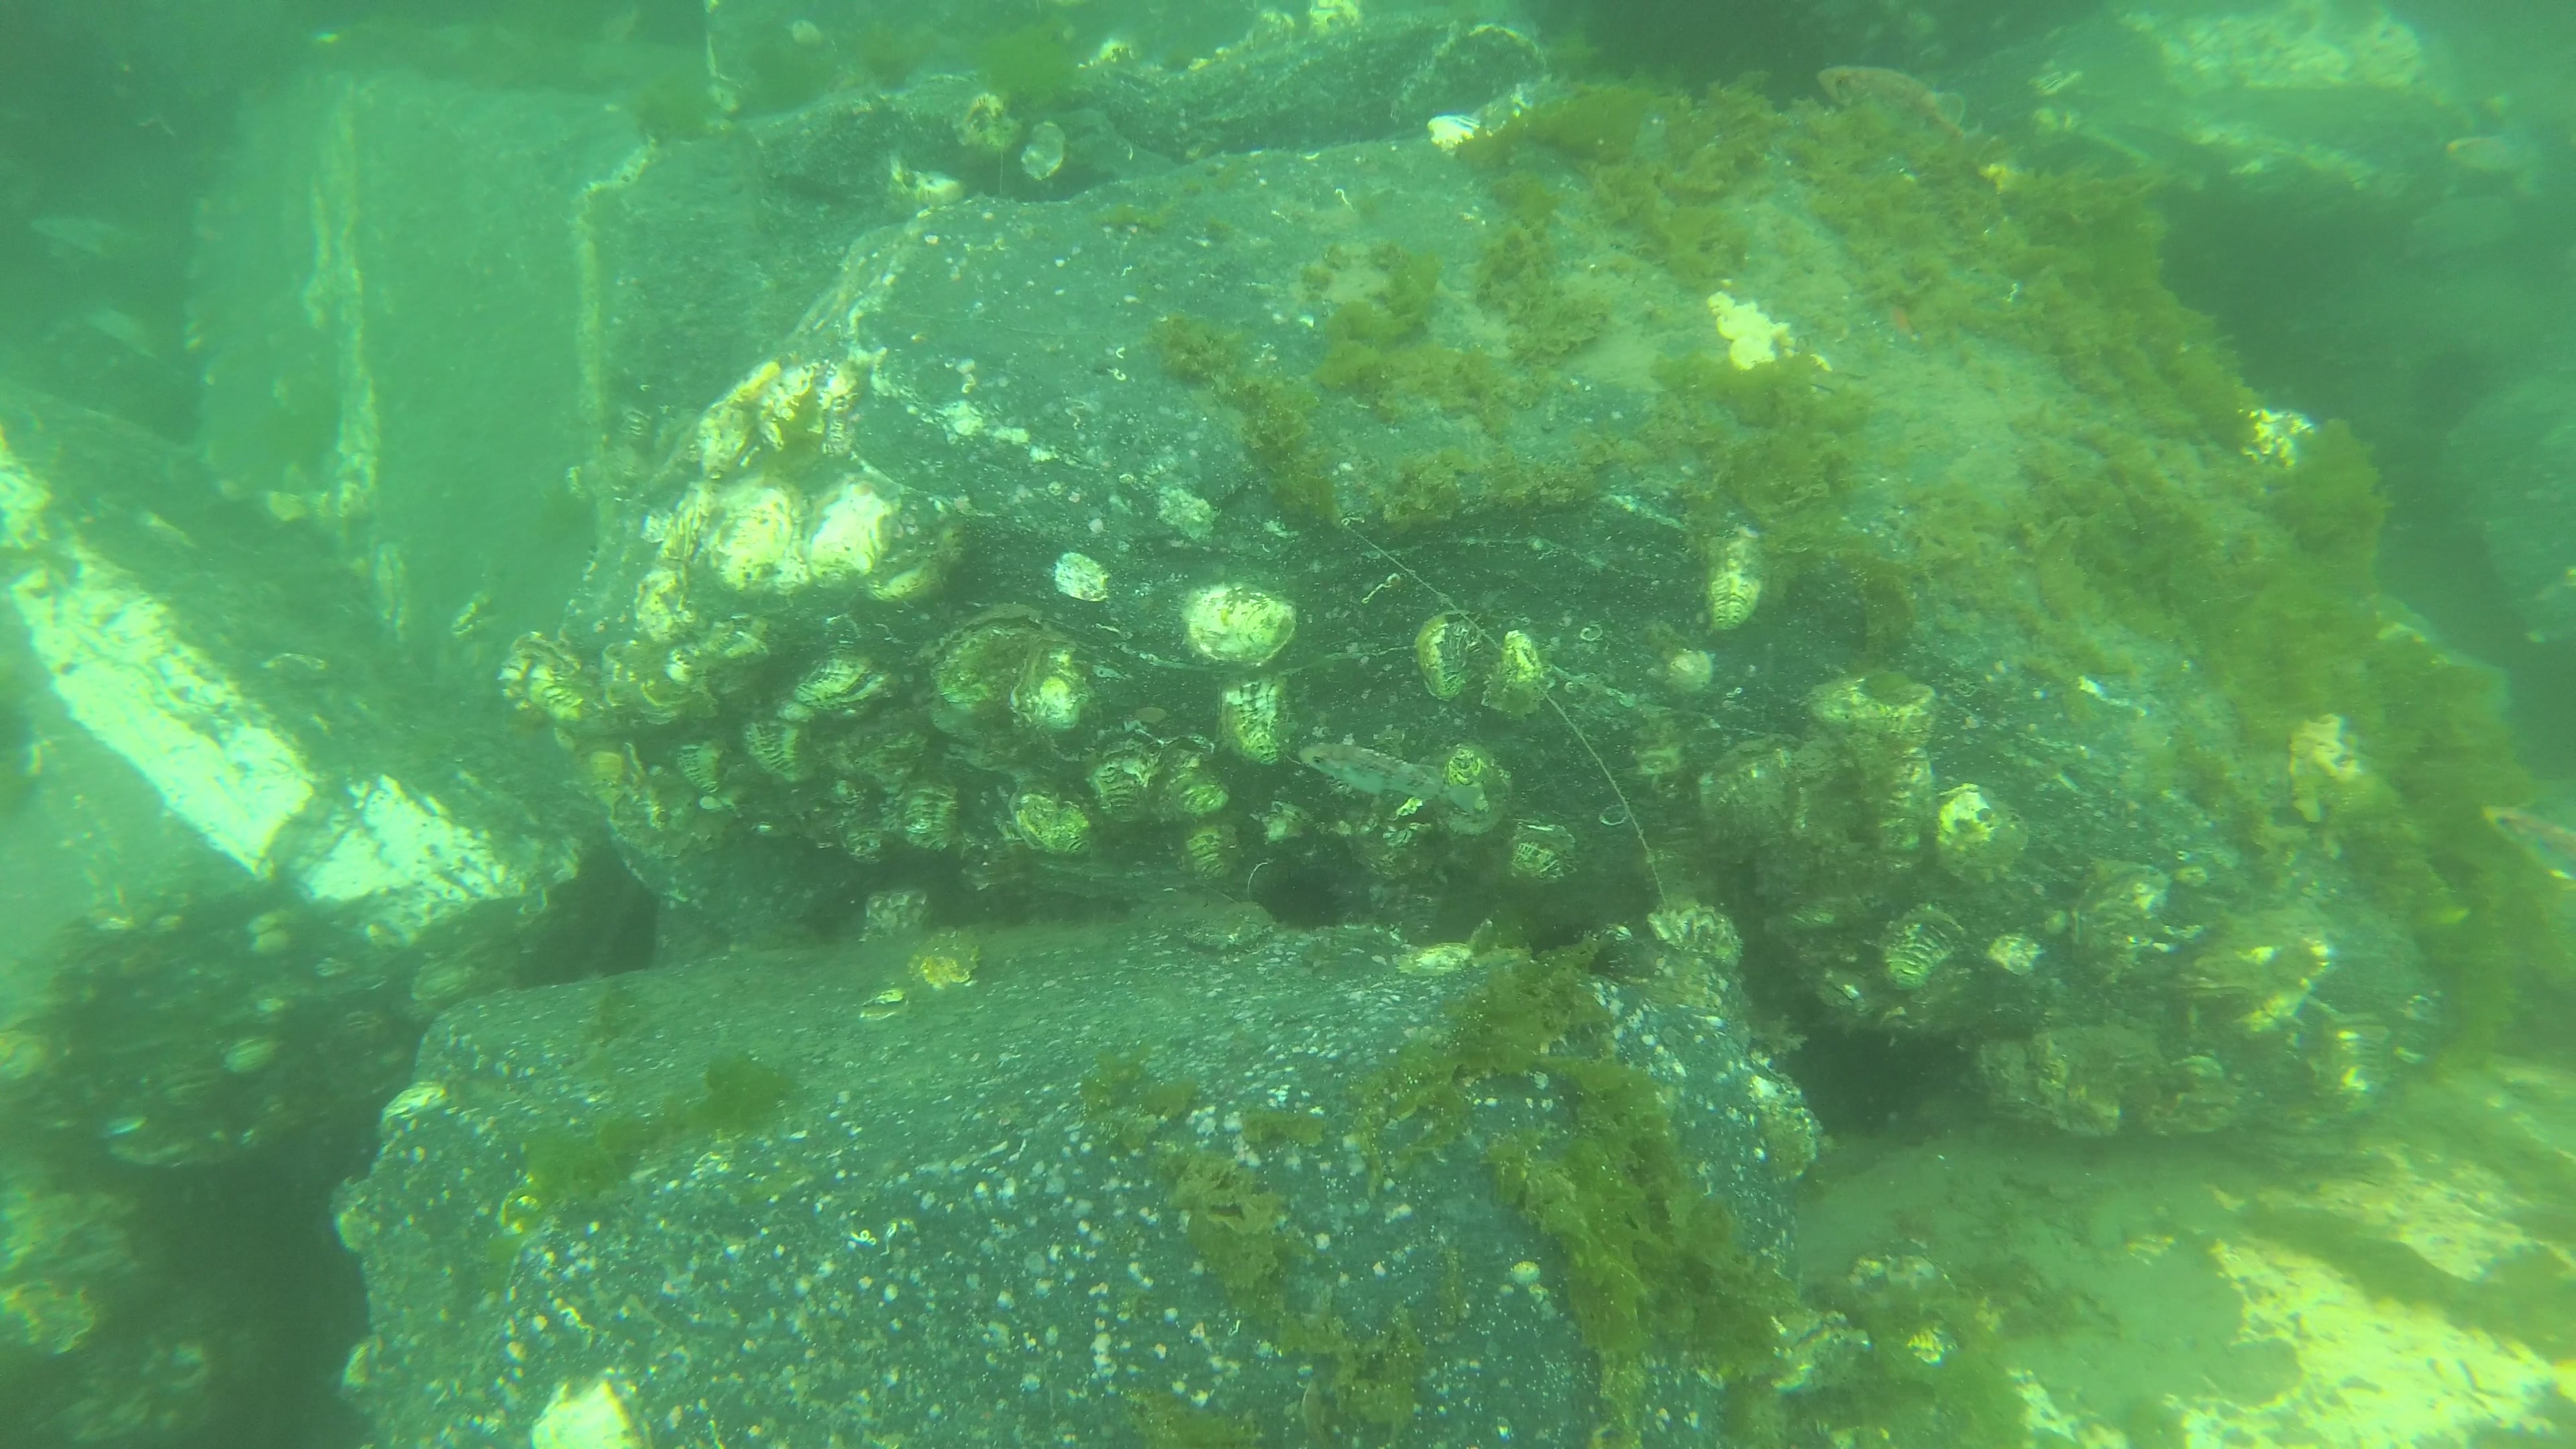echinus: (1536, 916, 1624, 989), (1260, 872, 1355, 936)
